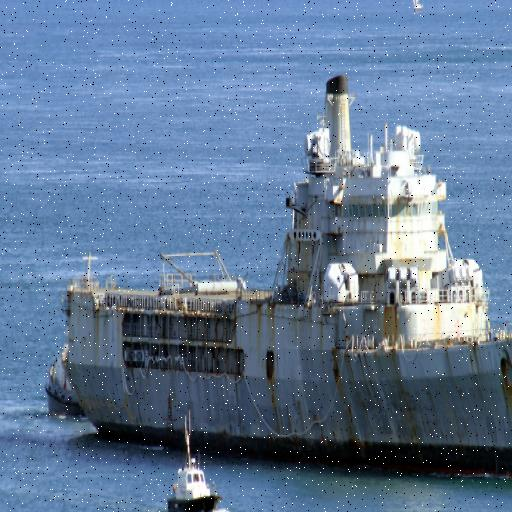Portanaves: (51, 71, 512, 490)
